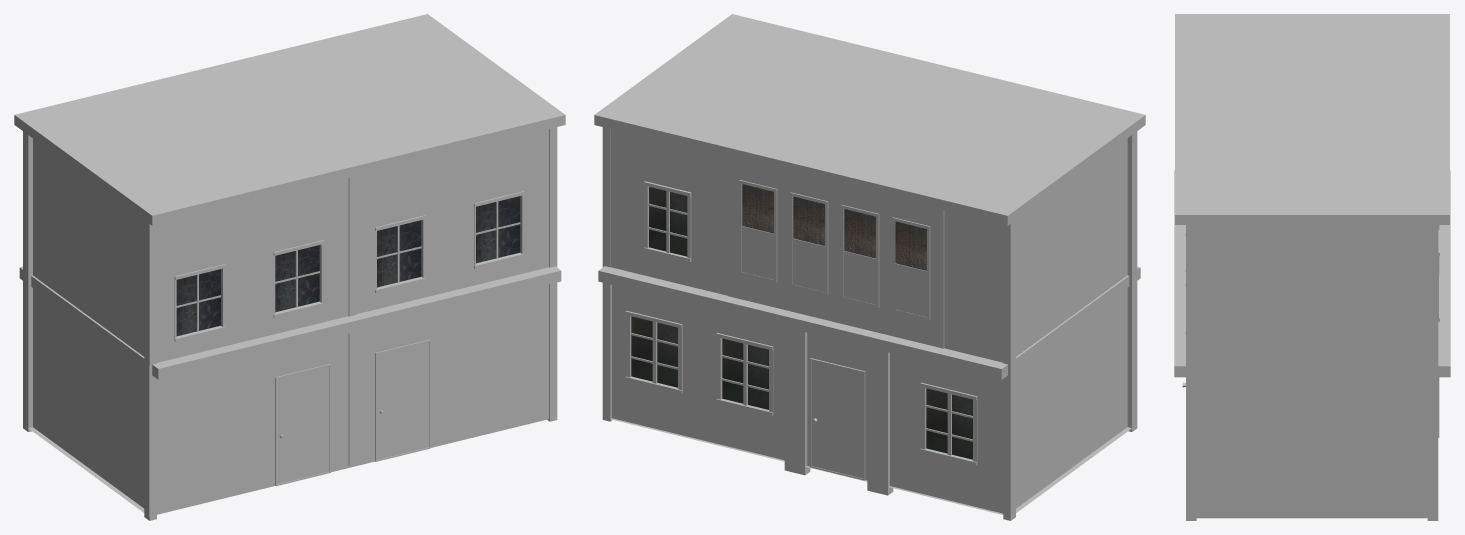
The model's file is apart_poor_04a.fbx.
The picture shows the model from 3 angles, left to right: view 1: azimuth 30°, elevation 25°; view 2: azimuth 150°, elevation 25°; view 3: azimuth 270°, elevation 25°; orthographic projection.
Visible parts, largest first — view 1: apart_poor_04a; view 2: apart_poor_04a; view 3: apart_poor_04a.
Boxes of the visible parts, left/top/right/bottom form: apart_poor_04a: left=14, top=14, right=565, bottom=520; apart_poor_04a: left=594, top=14, right=1145, bottom=520; apart_poor_04a: left=1174, top=14, right=1450, bottom=520.
Bounding box in the file's own units: 8.07 × 5.85 × 4.69.
